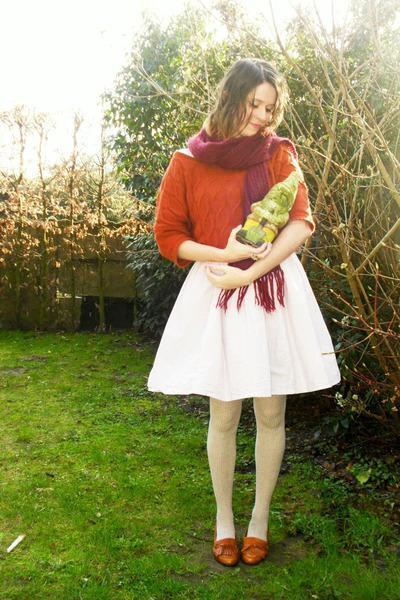skirt: (142, 252, 347, 402)
sweater: (147, 132, 315, 267)
